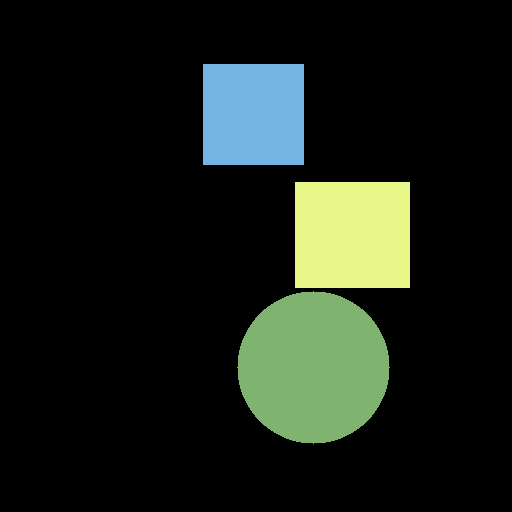circle: (237, 291, 389, 443)
square: (295, 182, 409, 287), (203, 64, 303, 164)
